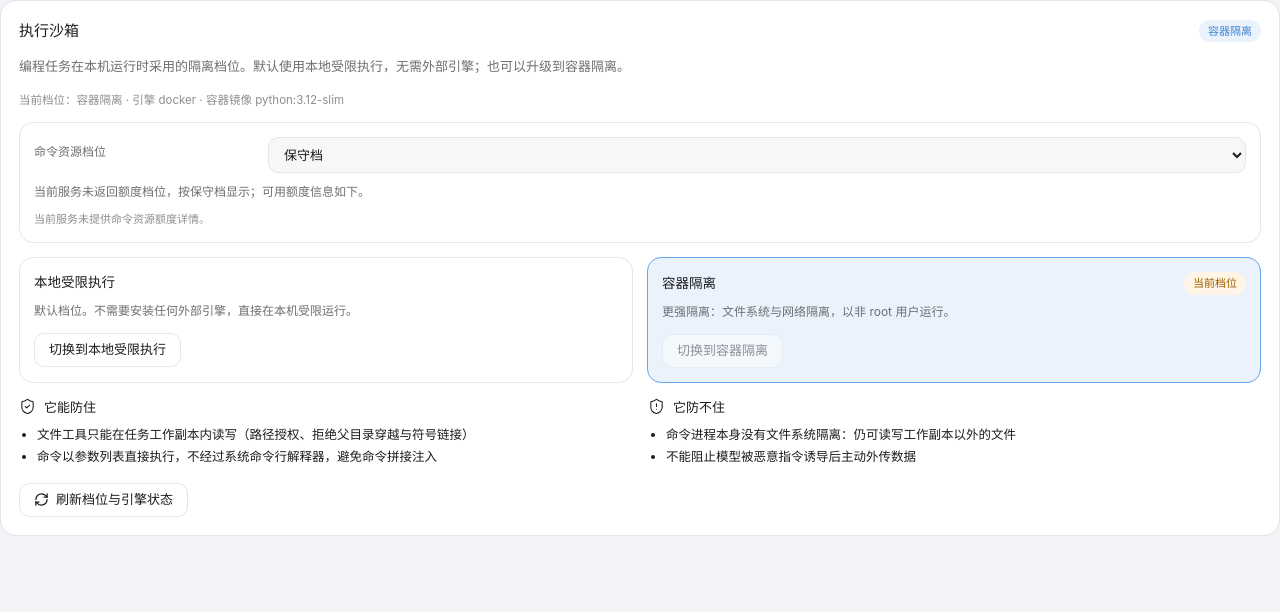
Scenario: 从容器档切回本地档无需确认，直接保存
This screenshot has width=1280, height=612.
What coordinates should you click on to do the following:
click the button "切换到本地受限执行"
I would click on:
 (108, 350)
Its box is [34,333,181,367].
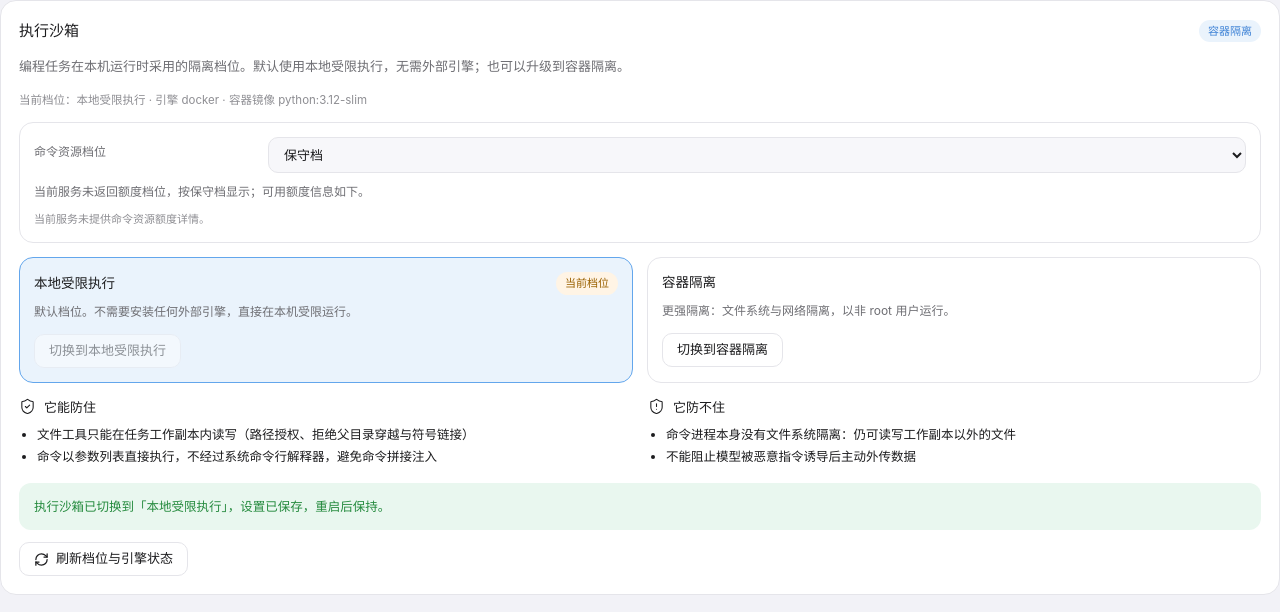
Expected: the text "执行沙箱已切换到「本地受限执行」，设置已保存，重启后保持。" is shown, [19,483,1261,530]
